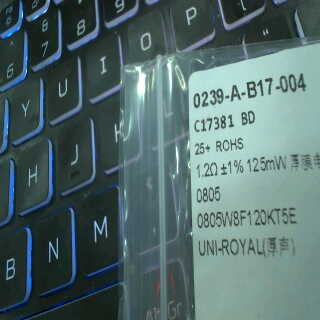1.2R: (193, 162, 223, 205)
